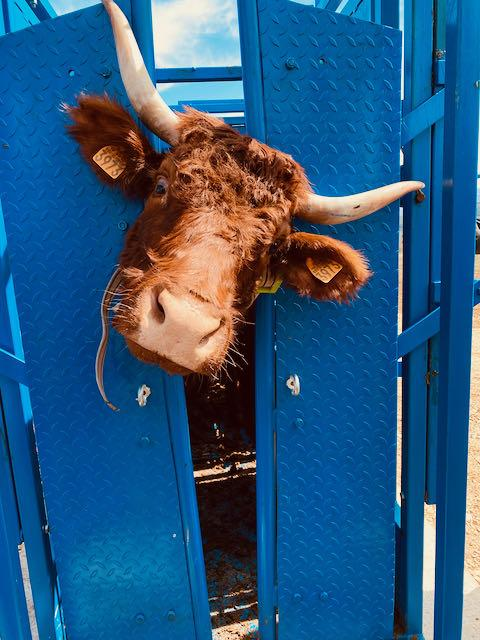muzzles: (117, 272, 236, 377)
